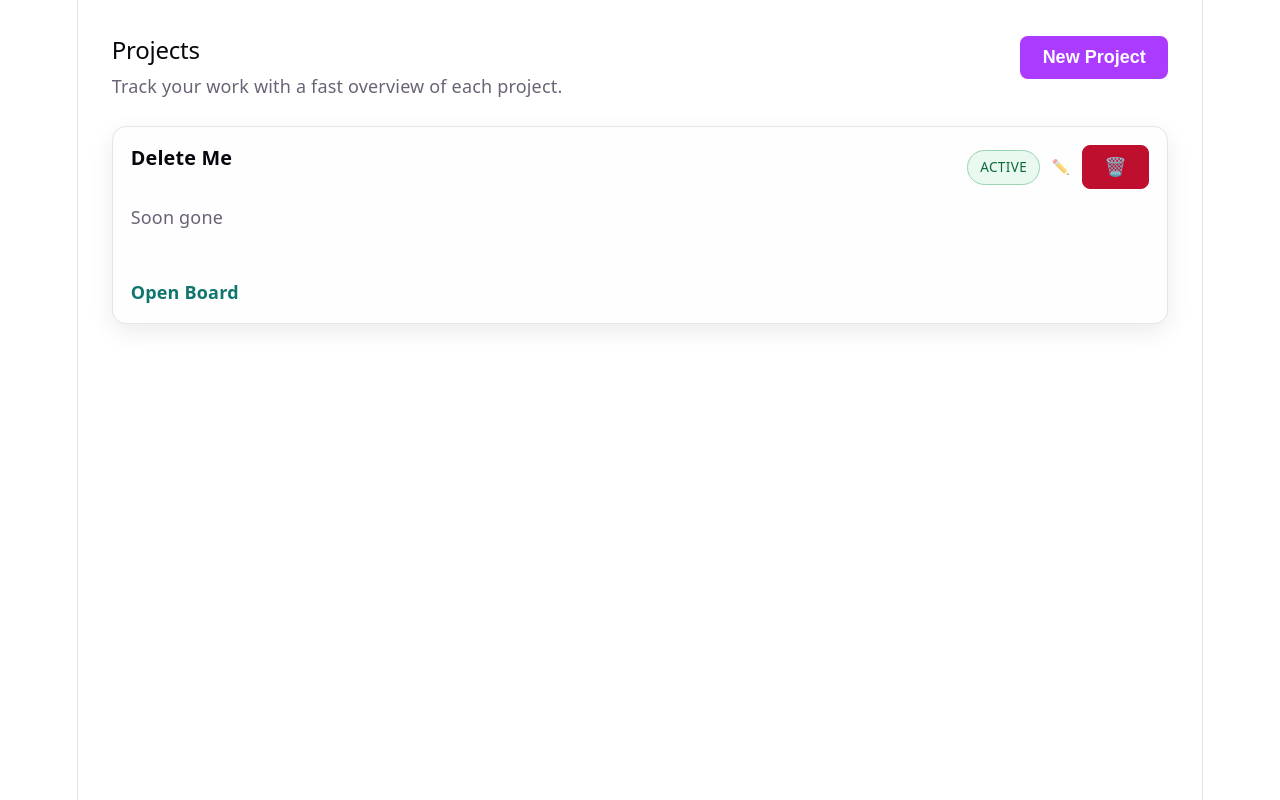
Test: Dashboard › deletes a project after confirmation
The image size is (1280, 800).
Expected: the heading "Delete Me" is shown, x1=131 y1=145 x2=232 y2=172
Click the button named "Delete Delete Me": (1115, 167) x1=1082 y1=145 x2=1149 y2=189
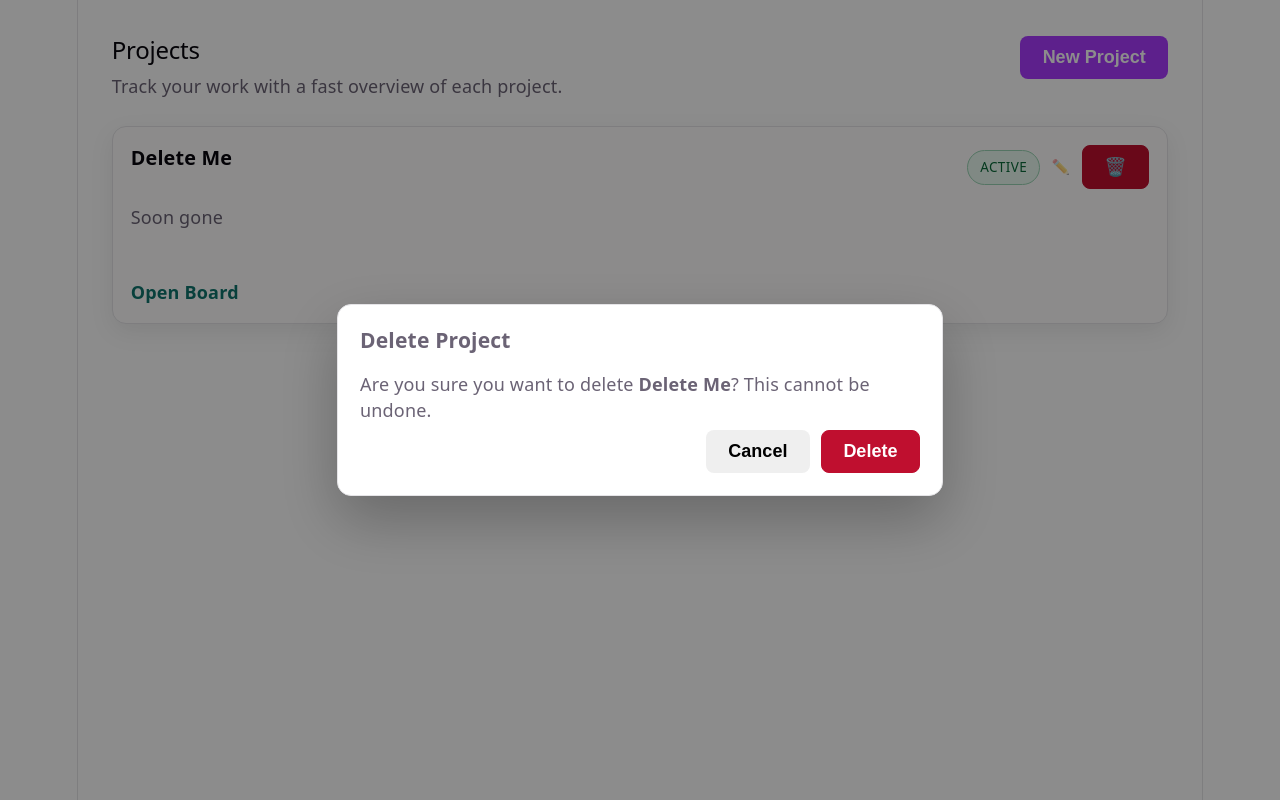
Now the dialog is shown, box x1=337 y1=304 x2=943 y2=496
Click the button "Delete": (870, 452) x1=821 y1=430 x2=920 y2=473
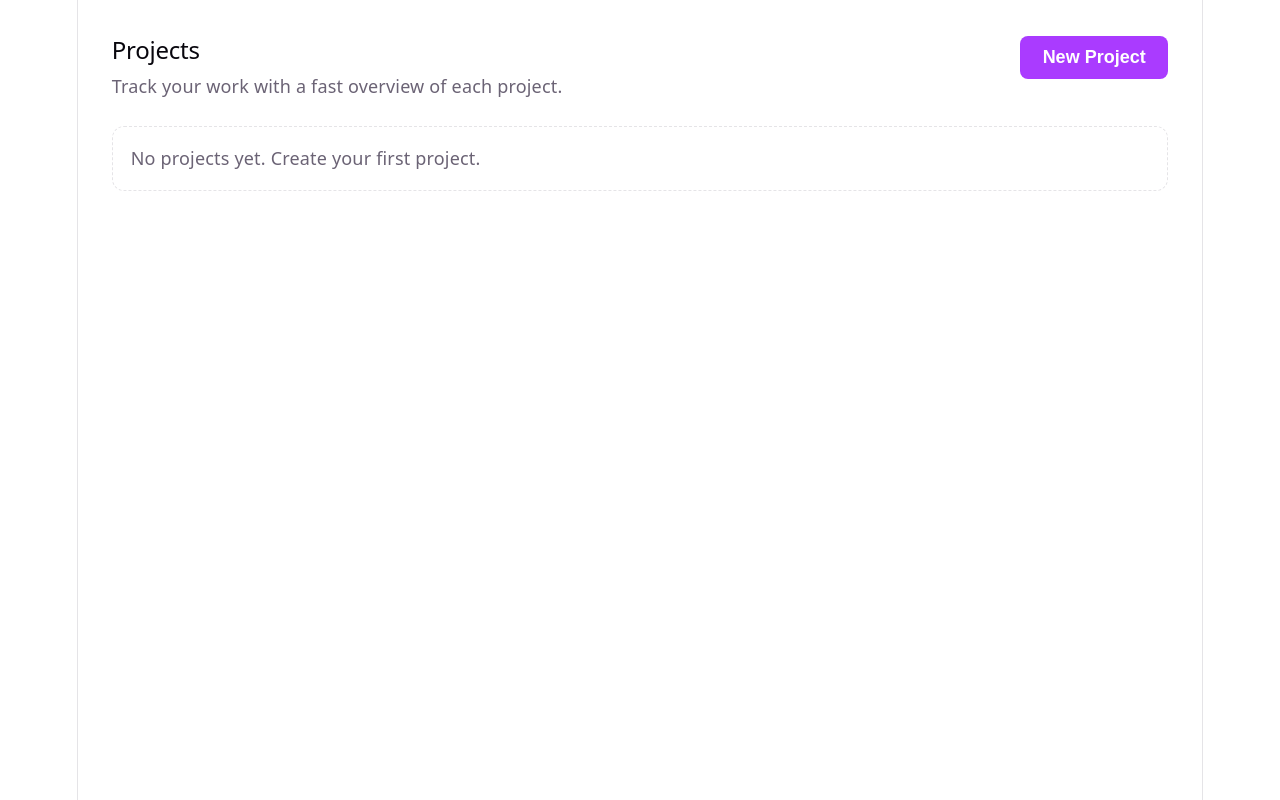
Now the heading "Delete Me" is gone
